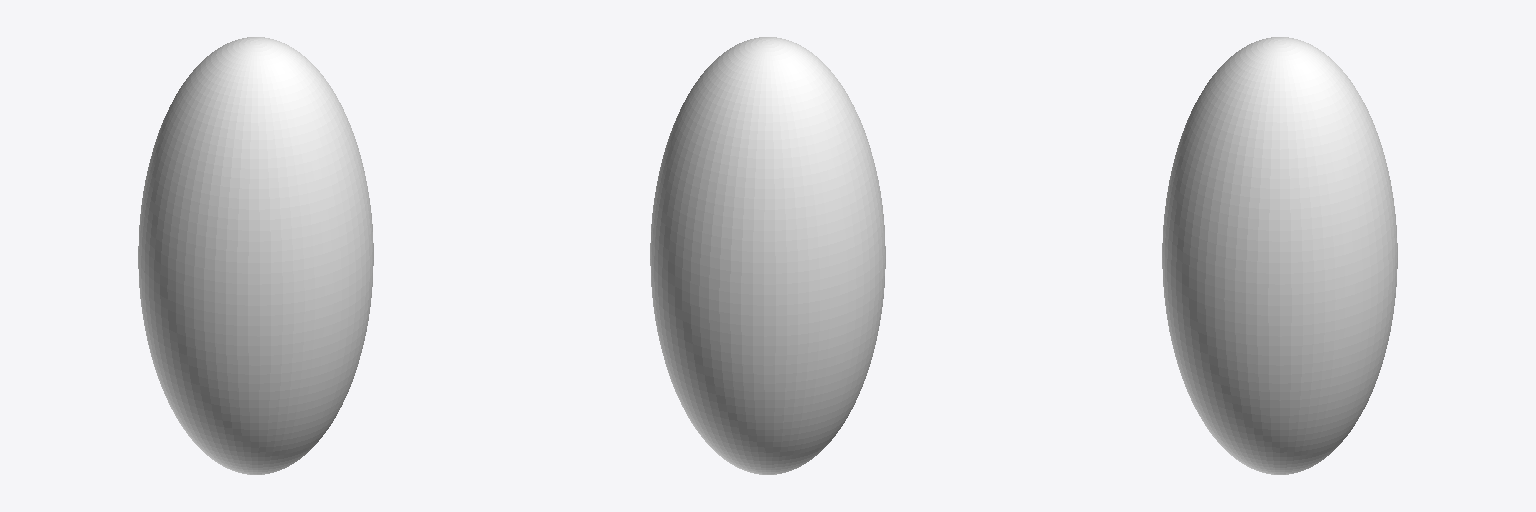
The model's file is Wirtanen.obj.
3 renders of one model, left to right at view 1: azimuth 30°, elevation 25°; view 2: azimuth 150°, elevation 25°; view 3: azimuth 270°, elevation 25°, orthographic.
Bounding box in the file's own units: 2 × 4 × 2.